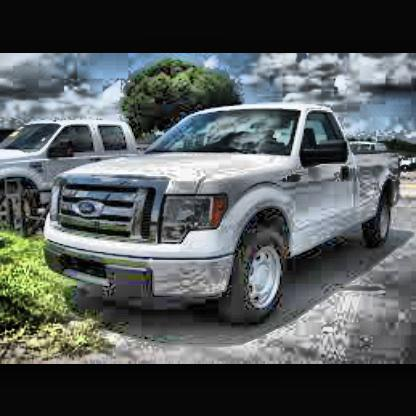Ford F-150 Regular Cab 2012: (45, 104, 406, 322)
